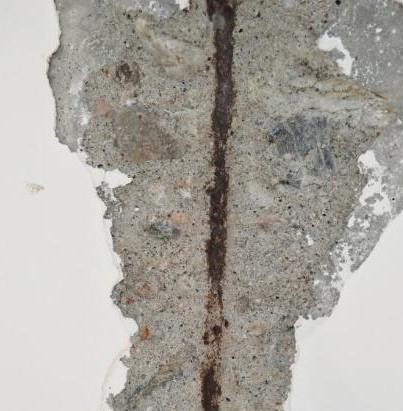Exposed reinforcement: (200, 1, 238, 411)
Spalling: (46, 1, 403, 411)
